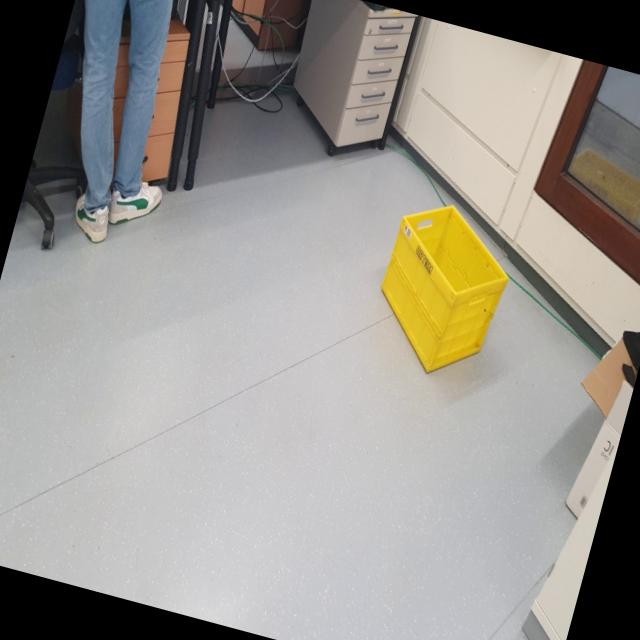box: (358, 186, 528, 392)
